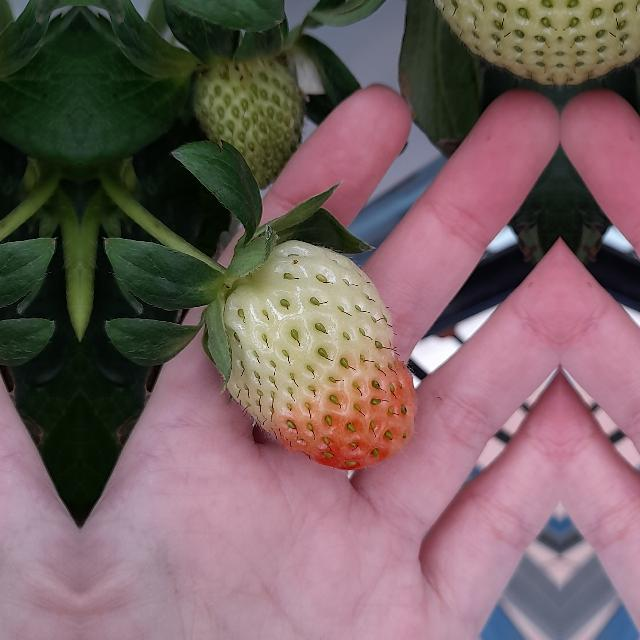Health_50: (221, 240, 419, 470)
